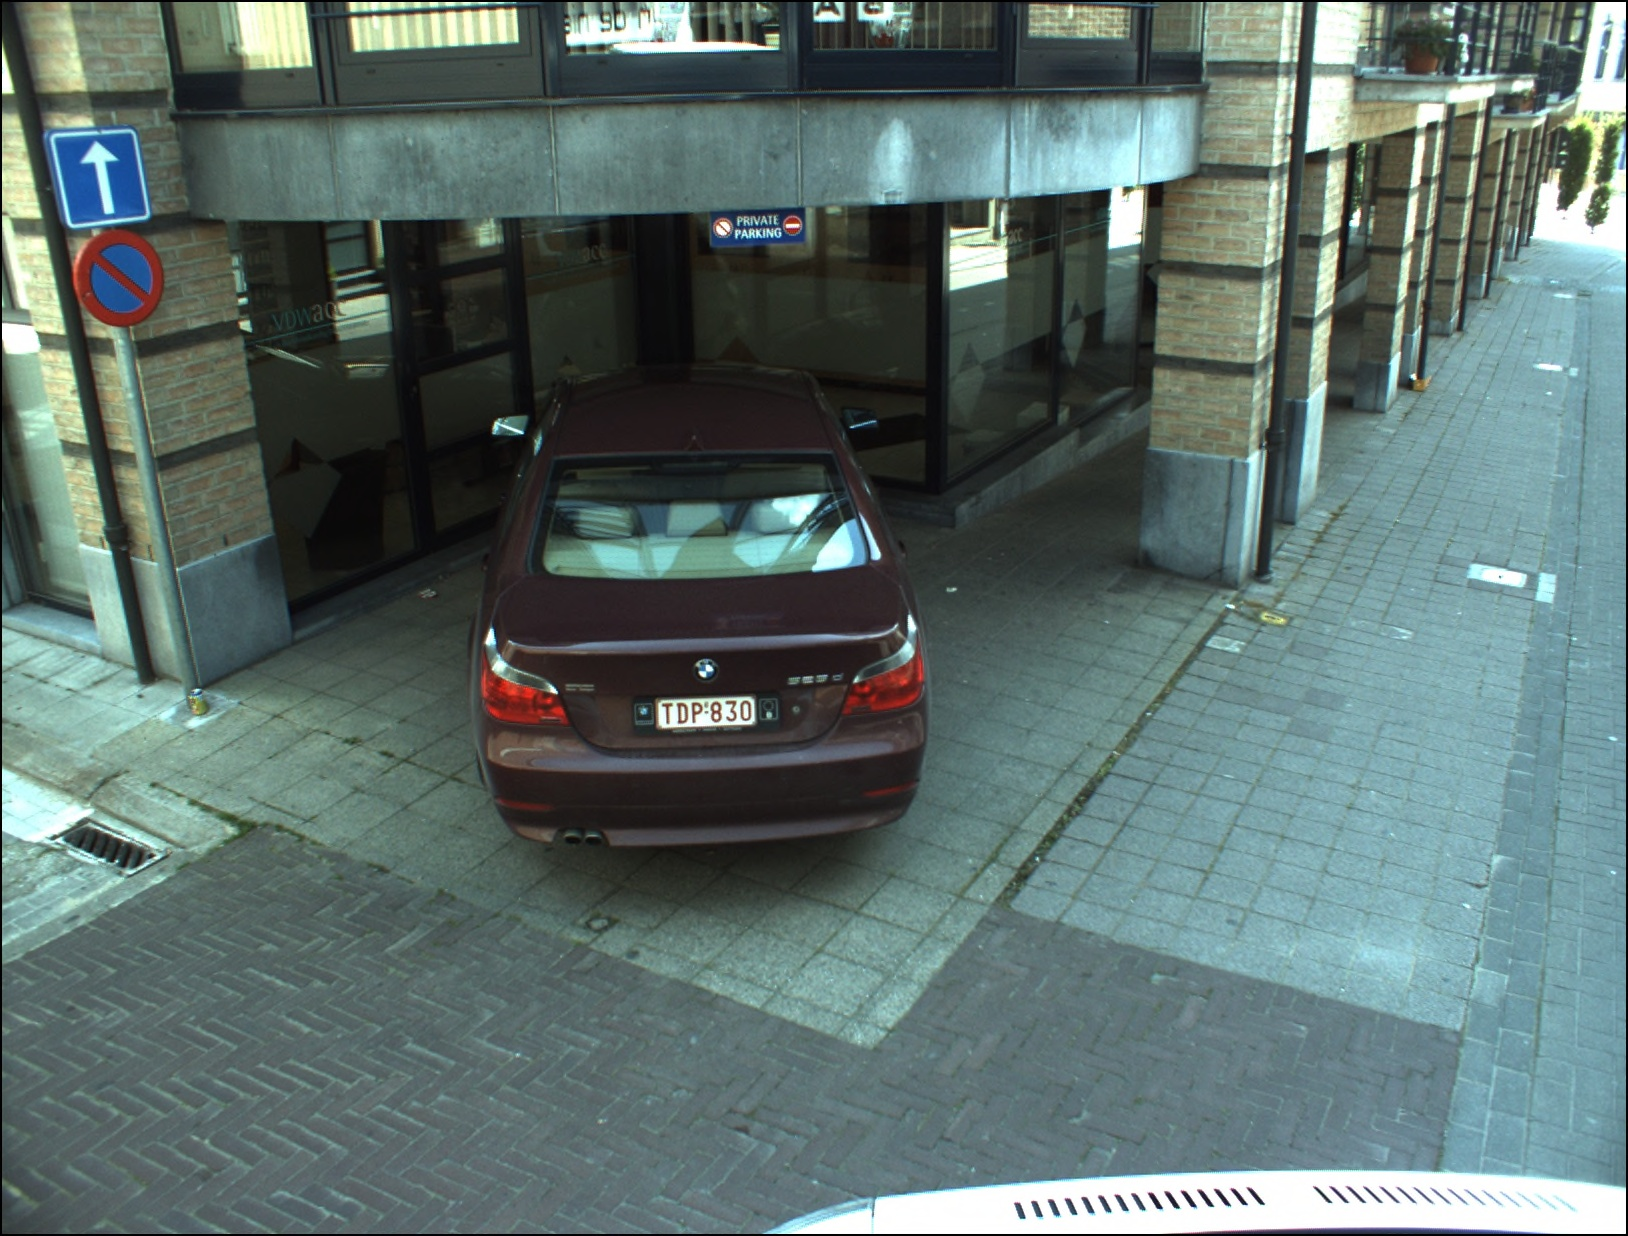noparking: (74, 231, 164, 325)
oneway: (51, 131, 148, 227)
